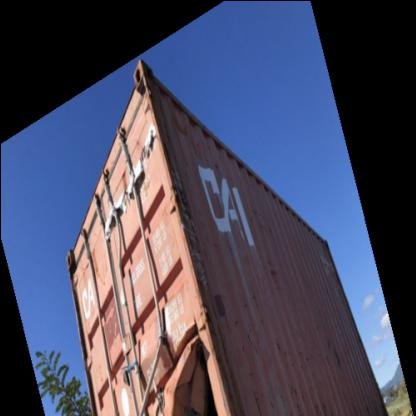Damage: (120, 282, 235, 415)
